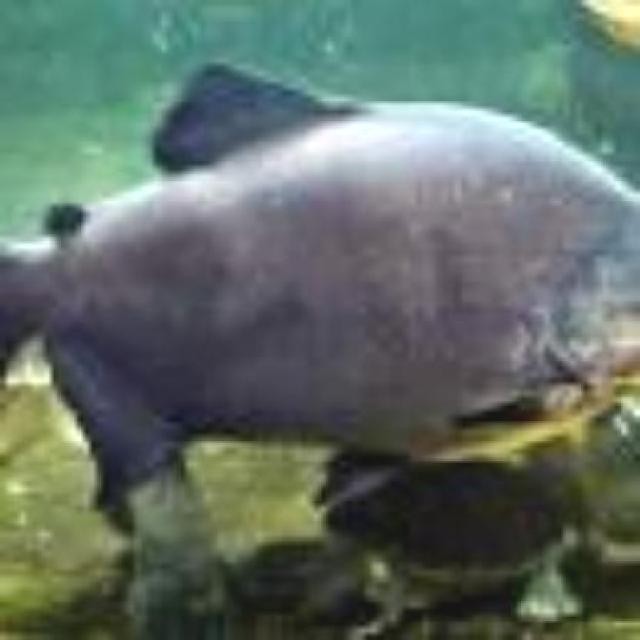ikan-pacu: (0, 88, 631, 452)
